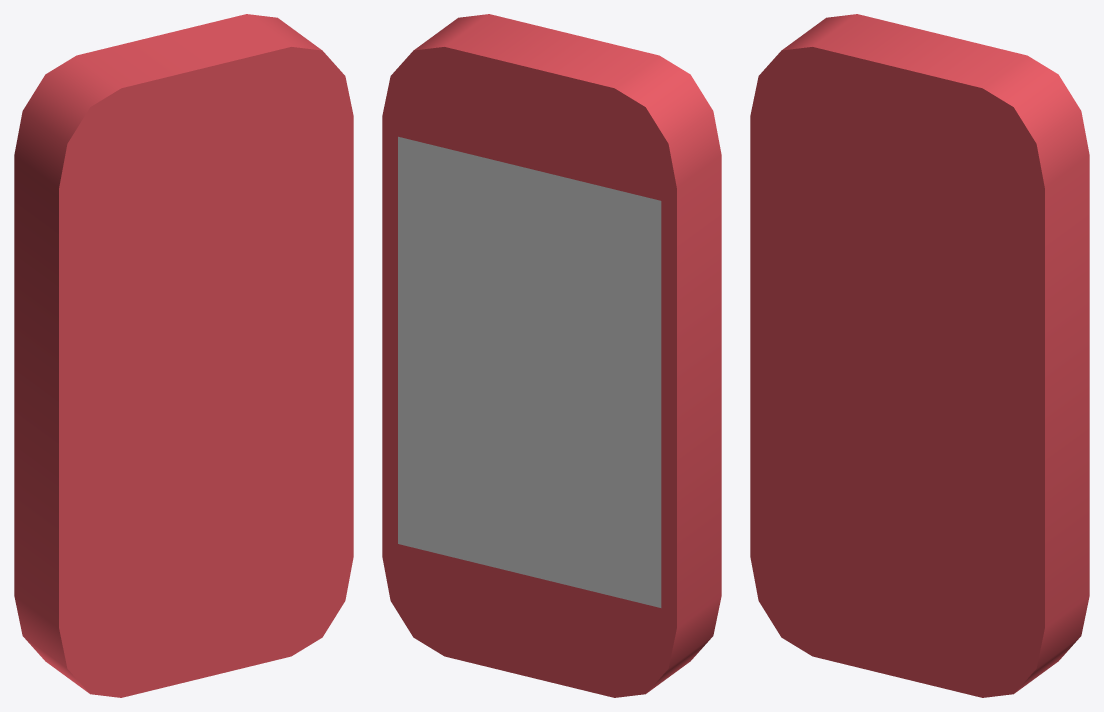
Rendered from Phone.fbx.
3 renders of one model, left to right at view 1: azimuth 30°, elevation 25°; view 2: azimuth 150°, elevation 25°; view 3: azimuth 330°, elevation 25°, orthographic.
Visible parts, largest first — view 1: Cube; view 2: Cube; view 3: Cube.
Part boxes in pixels (box(x1,y1,x2,y2)): Cube: box(14, 14, 353, 697); Cube: box(382, 14, 721, 697); Cube: box(750, 14, 1089, 697).
Bounding box in the file's own units: 10.68 × 21.11 × 2.81.
